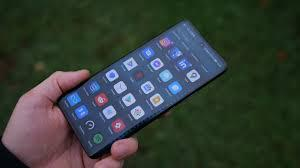Hand: (0, 65, 146, 168)
Smartphone: (73, 18, 223, 159)
